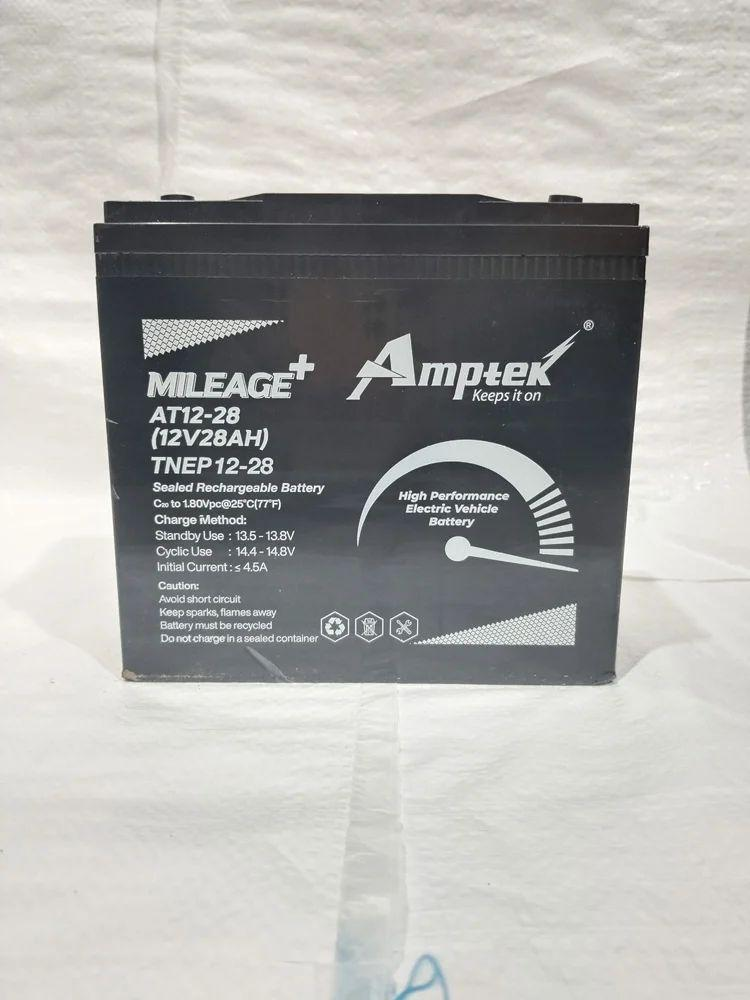battery: (88, 178, 660, 697)
